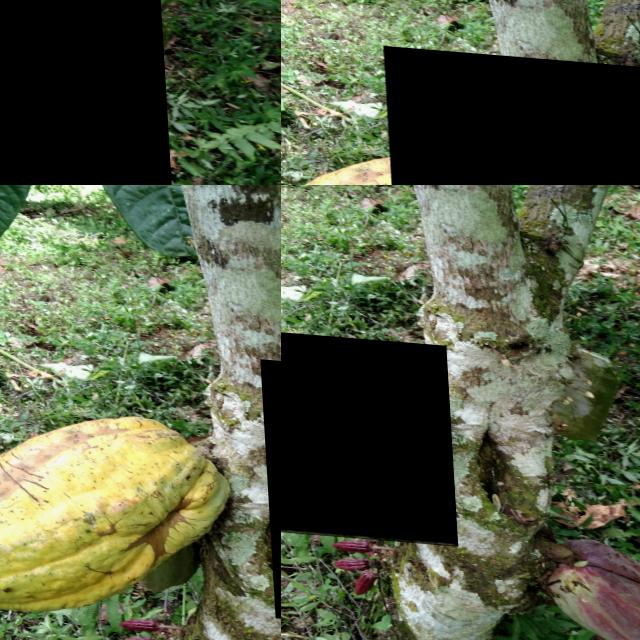Monilia: (381, 43, 640, 185)
Sana: (281, 322, 452, 541), (0, 0, 168, 185), (190, 466, 281, 640), (537, 533, 640, 640), (0, 185, 69, 237), (317, 550, 377, 575), (321, 531, 376, 554), (343, 562, 373, 594)
